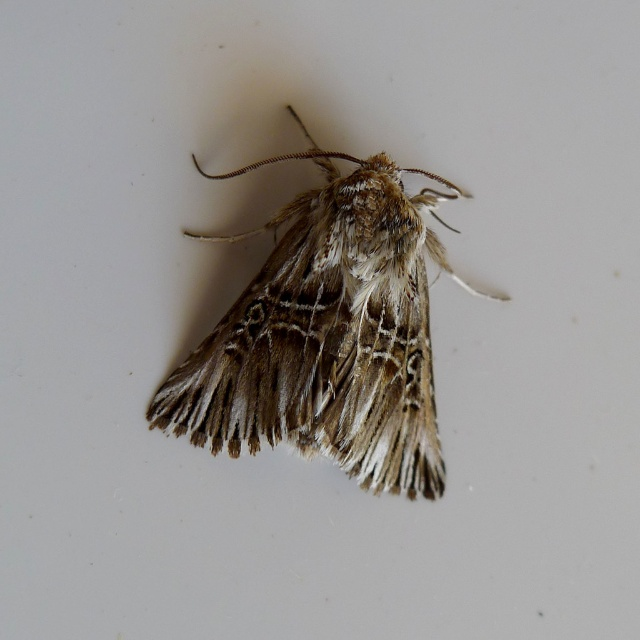Moths and butterflies: (149, 104, 518, 503)
